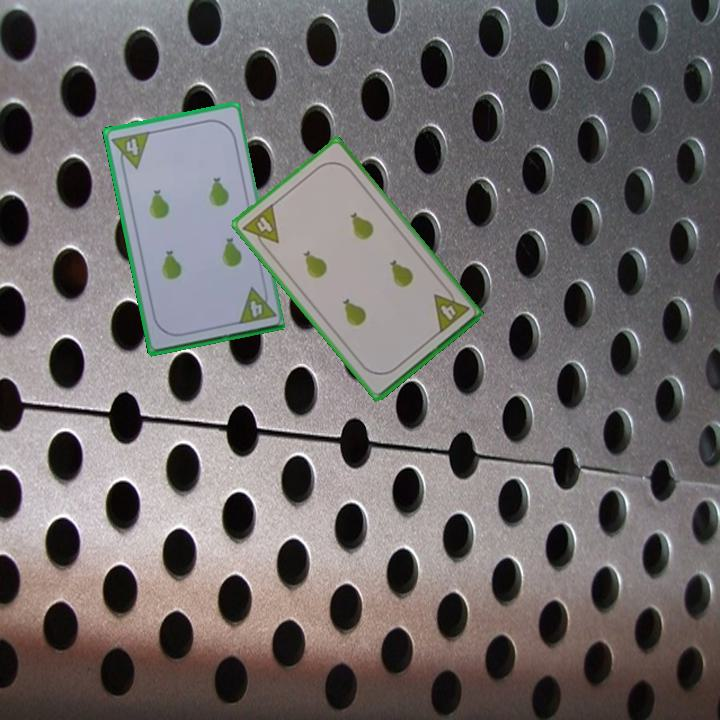4p: (239, 200, 282, 254), (430, 283, 472, 336), (108, 128, 152, 174), (233, 282, 277, 327)
